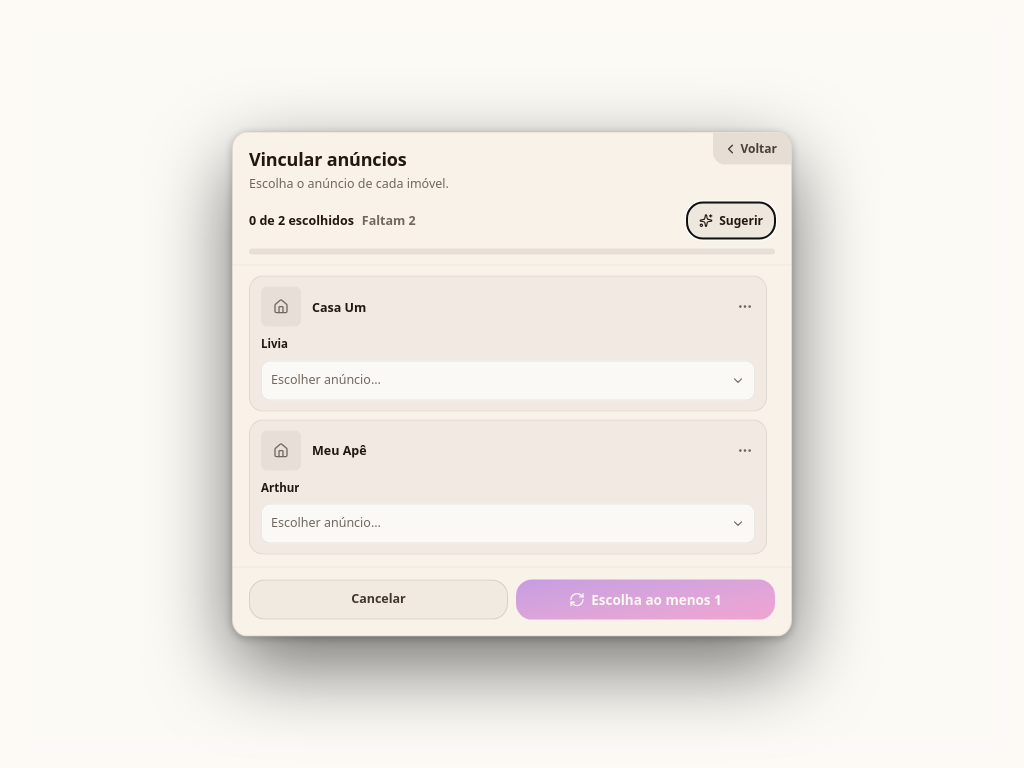
Test case: sincronizar em massa (de → para) › mostra todos os imóveis, sugere por nome e deixa o anúncio solto escolher um imóvel
expect the heading "Vincular anúncios" is shown: met, box x1=249 y1=147 x2=406 y2=171
expect the text "Escolher anúncio…" is shown 2 times: met, box x1=271 y1=371 x2=381 y2=388; x1=271 y1=514 x2=381 y2=531
Click the button "Sugerir": click(731, 221) x1=687 y1=203 x2=775 y2=239
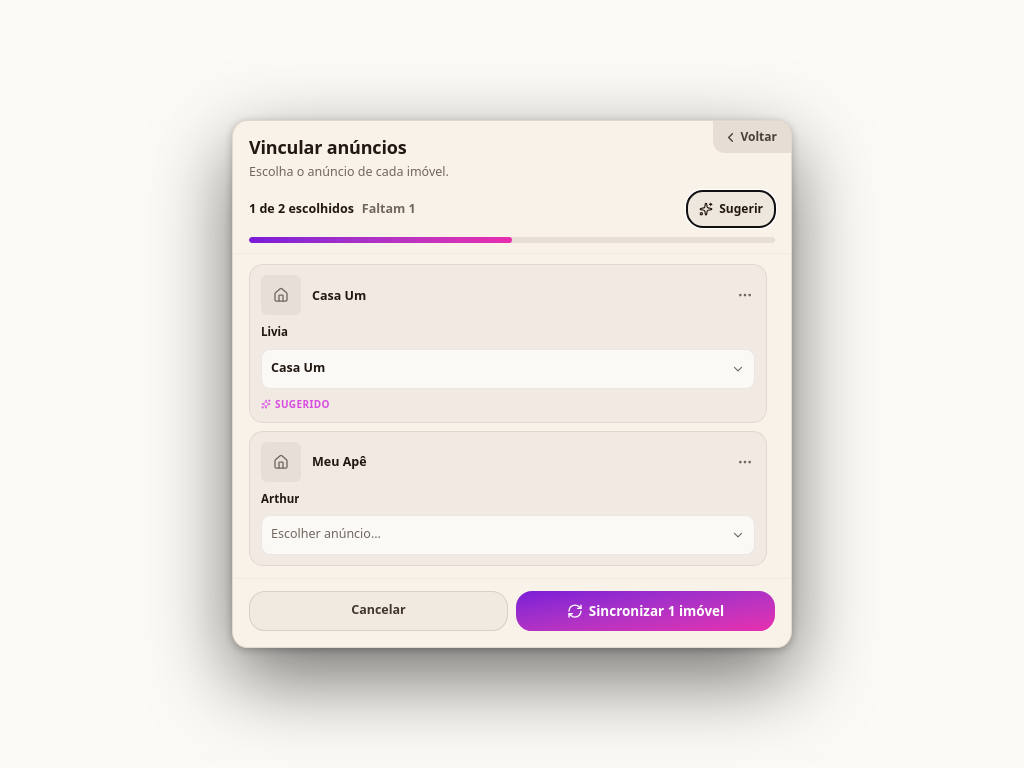
expect the button "Sincronizar 1 imóvel" is shown: met, box x1=516 y1=591 x2=775 y2=631
Click the button "Escolher anúncio…": click(326, 534) x1=261 y1=515 x2=755 y2=555
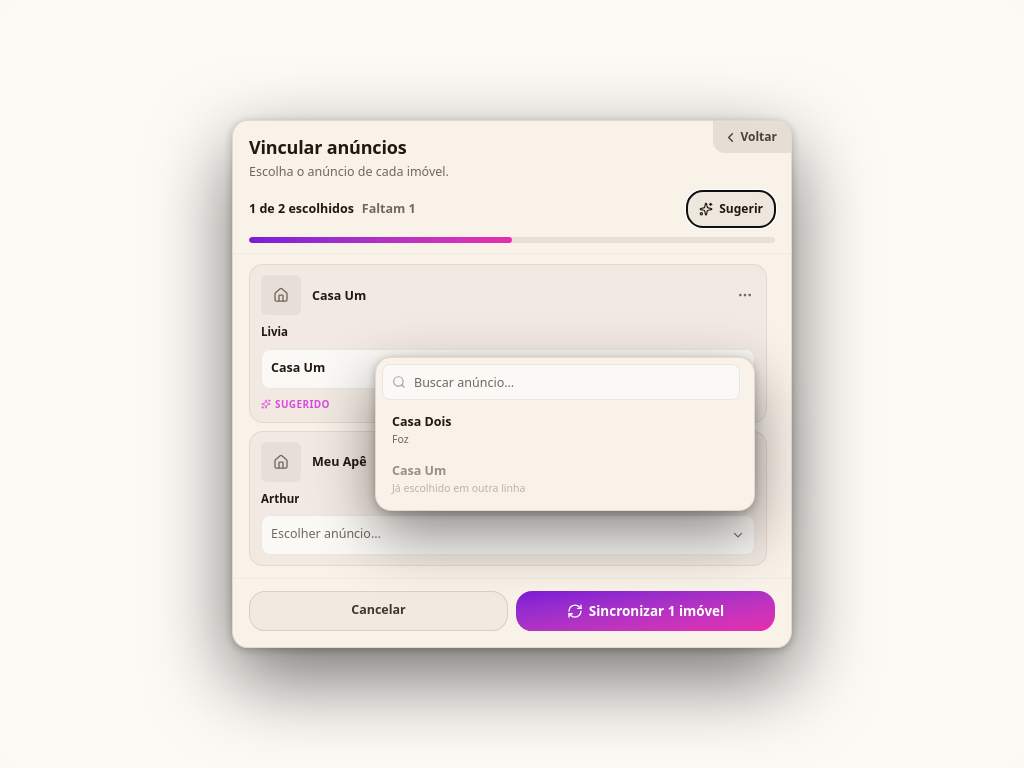
expect the text "Casa Dois" is shown: met
Click the text "Casa Dois": click(422, 422) x1=392 y1=413 x2=452 y2=430
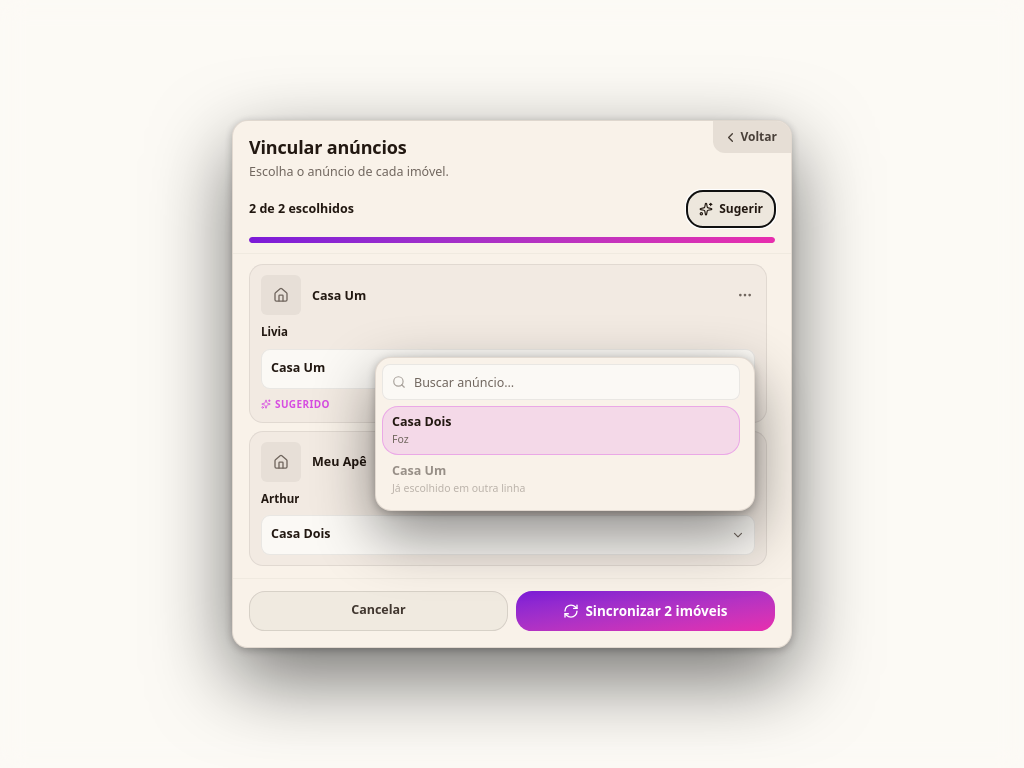
expect the button "Sincronizar 2 imóveis" is shown: met
Click the button "Sincronizar 2 imóveis": click(646, 611) x1=516 y1=591 x2=775 y2=631
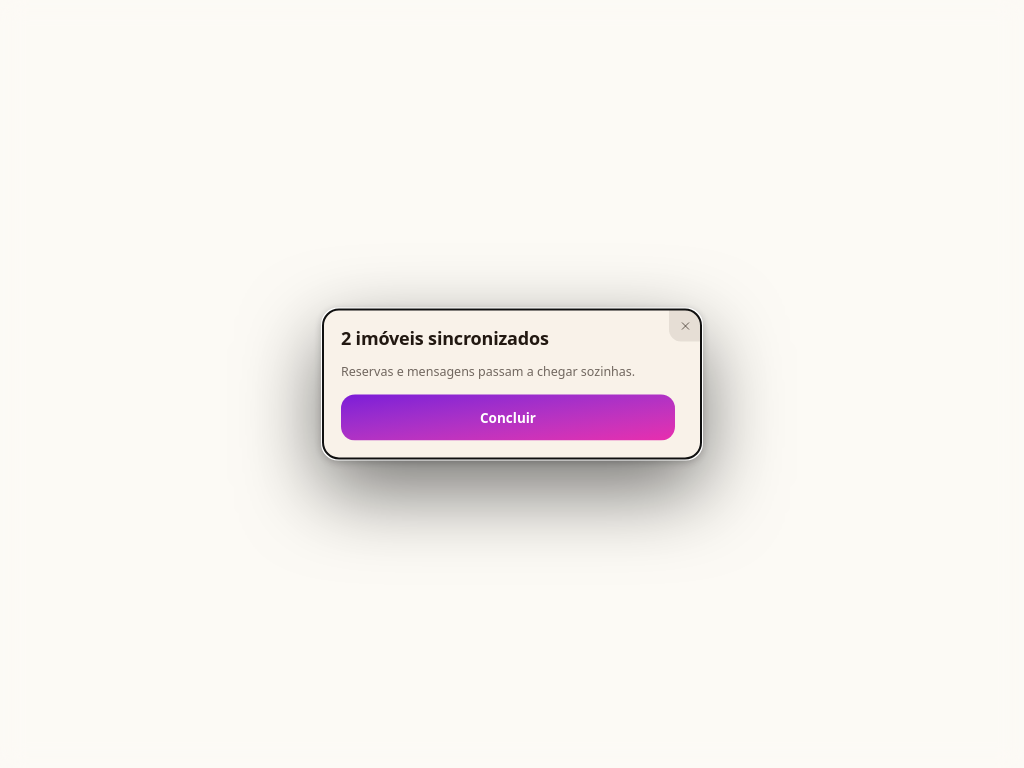
expect the heading "2 imóveis sincronizados" is shown: met, box x1=341 y1=328 x2=549 y2=350
